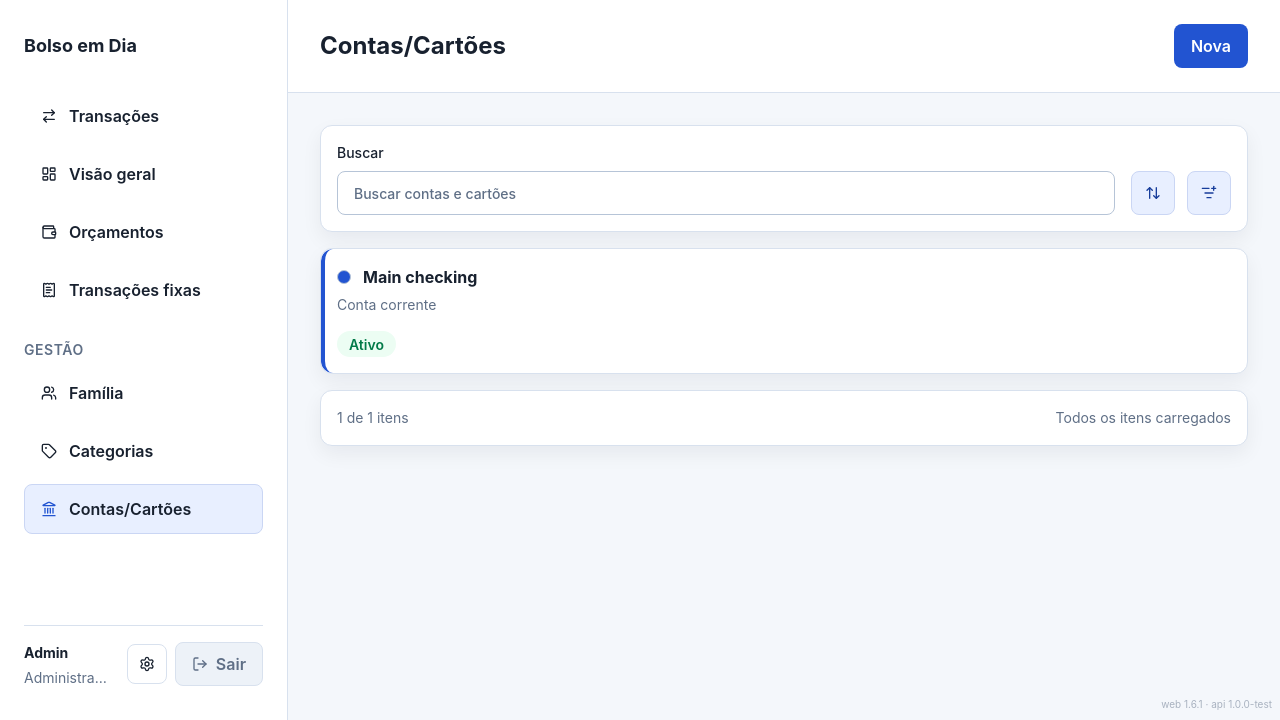
Test case: AccountsPage › loads accounts and validates credit card fields
expect the text "Main checking" is shown: met, box [363, 265, 477, 289]
Click the button "Nova" at point(1211, 46), box [1174, 24, 1248, 68]
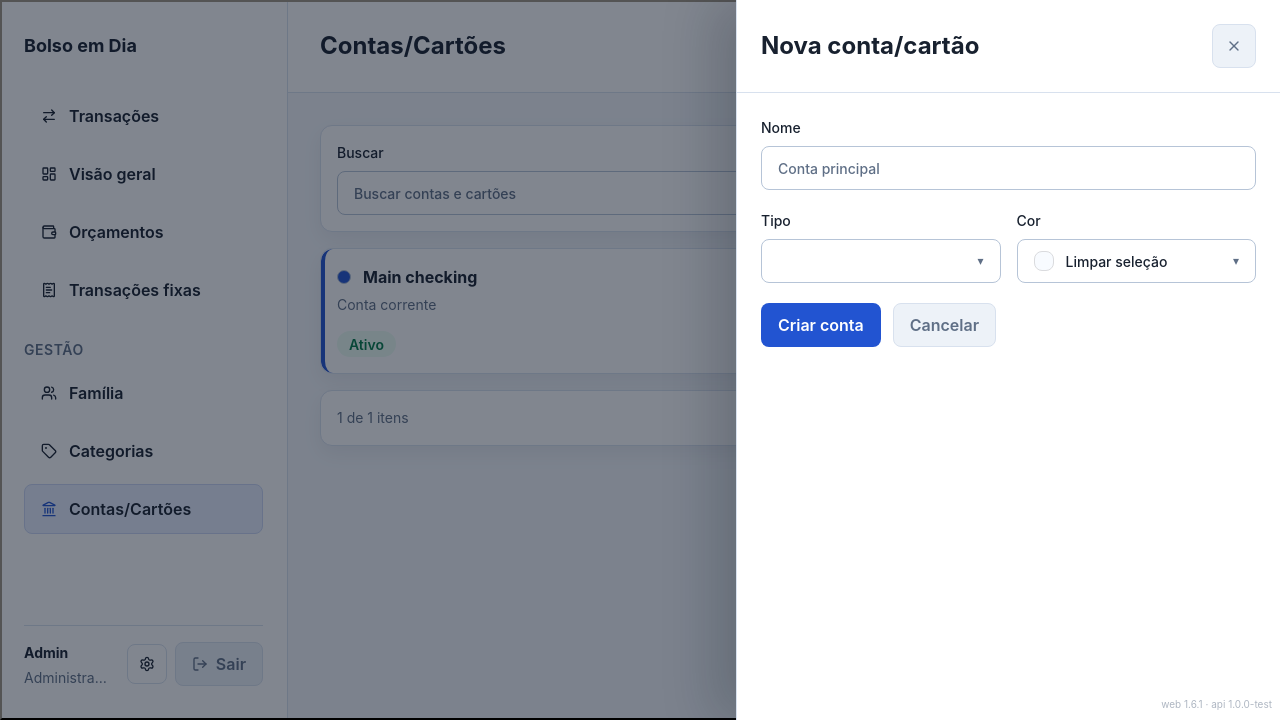
expect the dialog is shown: met, box [736, 0, 1279, 719]
Select "Cartão de crédito" in the dropdown labelled "Tipo" at point(881, 246), box [761, 210, 1000, 283]
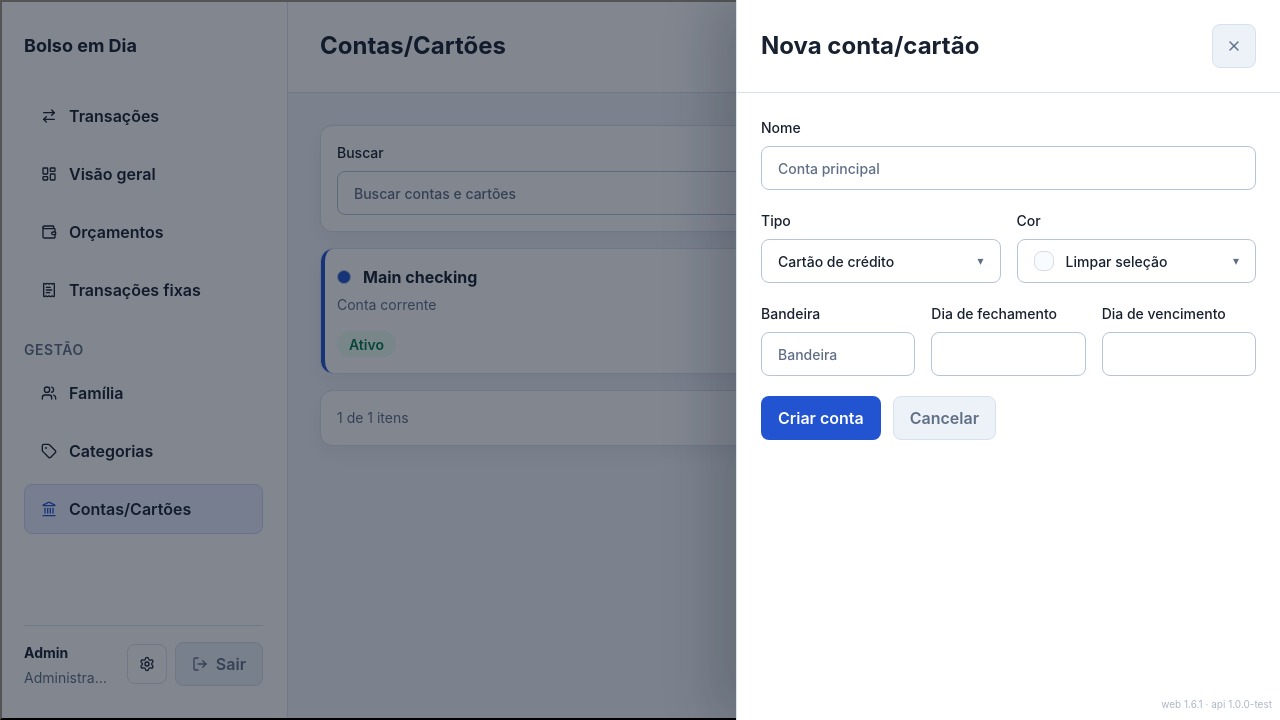
Click the button "Criar conta" at point(821, 418), box [761, 396, 881, 440]
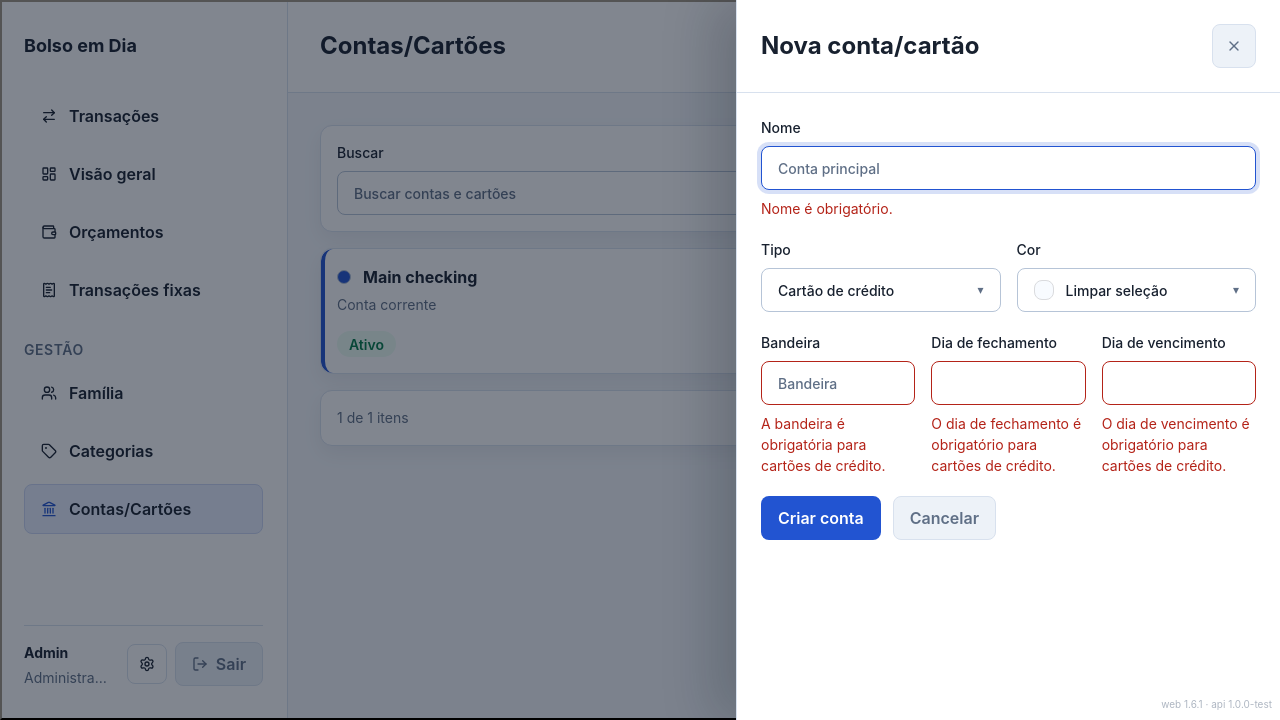
expect the text "A bandeira é obrigatória para cartões de crédito." is shown: met, box [761, 415, 886, 474]
expect the text "O dia de fechamento é obrigatório para cartões de crédito." is shown: met, box [931, 413, 1086, 476]
expect the text "O dia de vencimento é obrigatório para cartões de crédito." is shown: met, box [1102, 413, 1256, 476]
